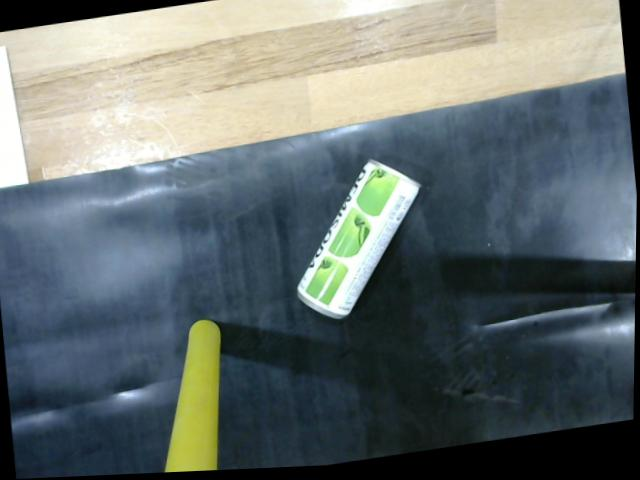can: (292, 160, 427, 328)
